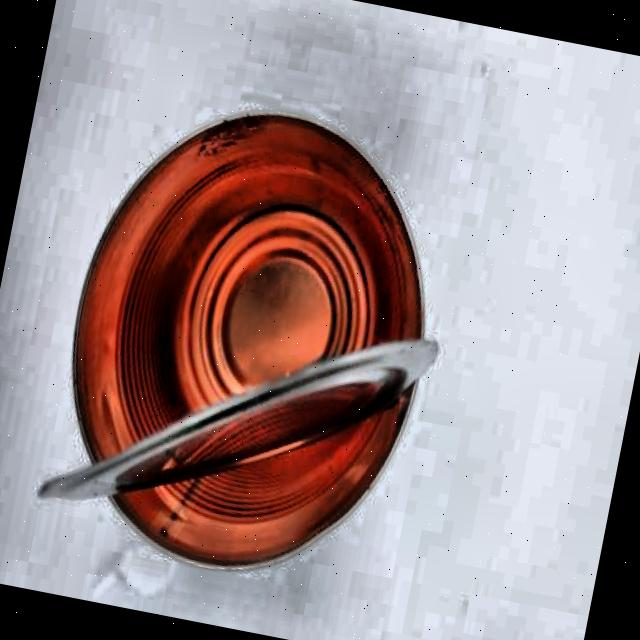metal: (36, 83, 466, 590)
